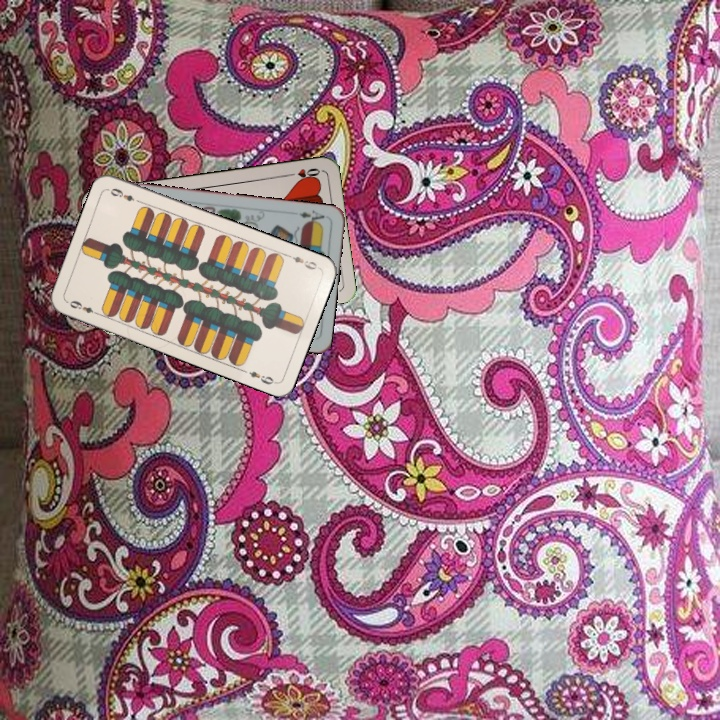E9: (283, 250, 322, 272), (65, 296, 102, 318)
EA: (295, 206, 327, 227)
HO: (283, 164, 323, 182)
